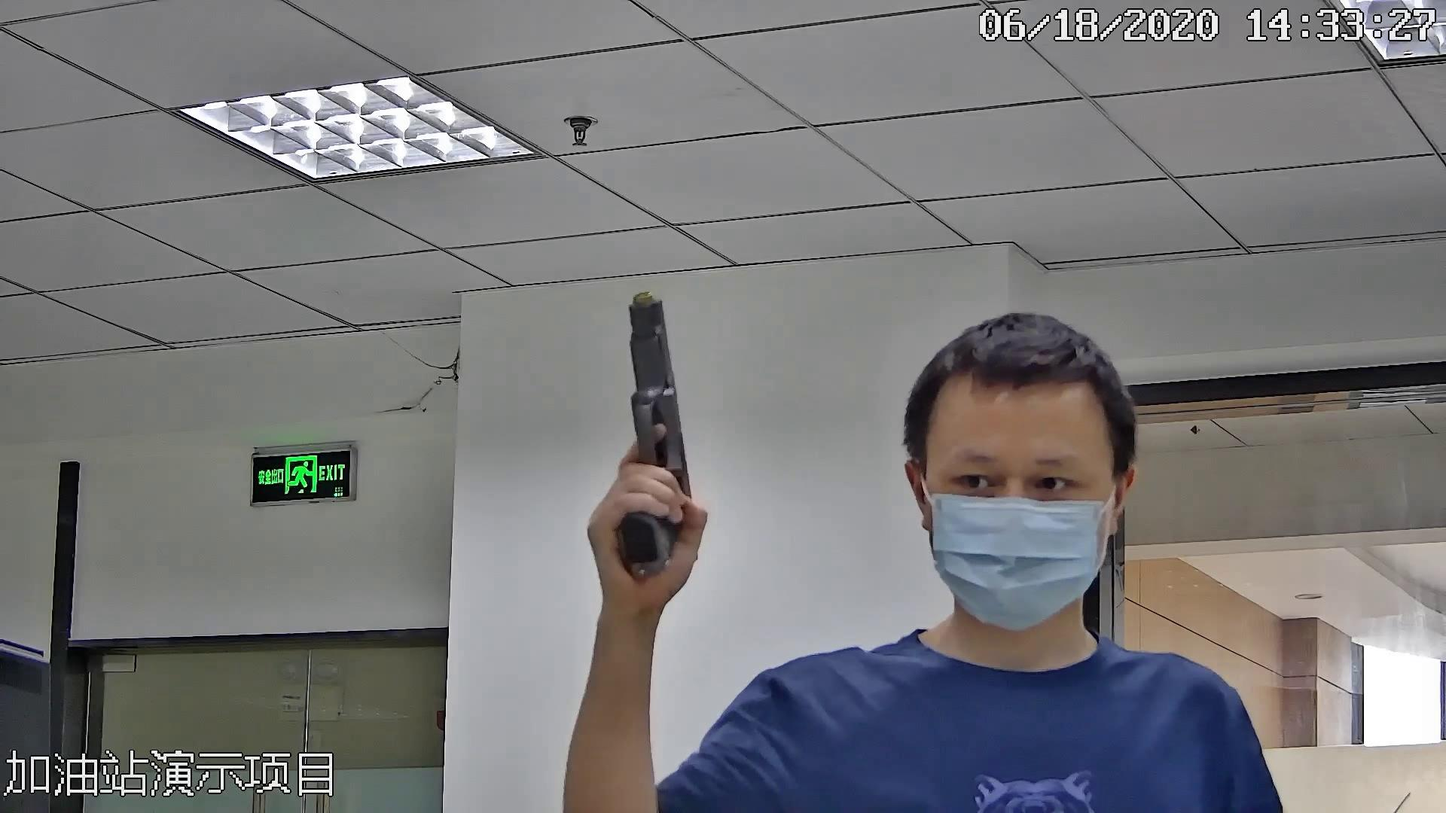gun: (619, 279, 707, 583)
